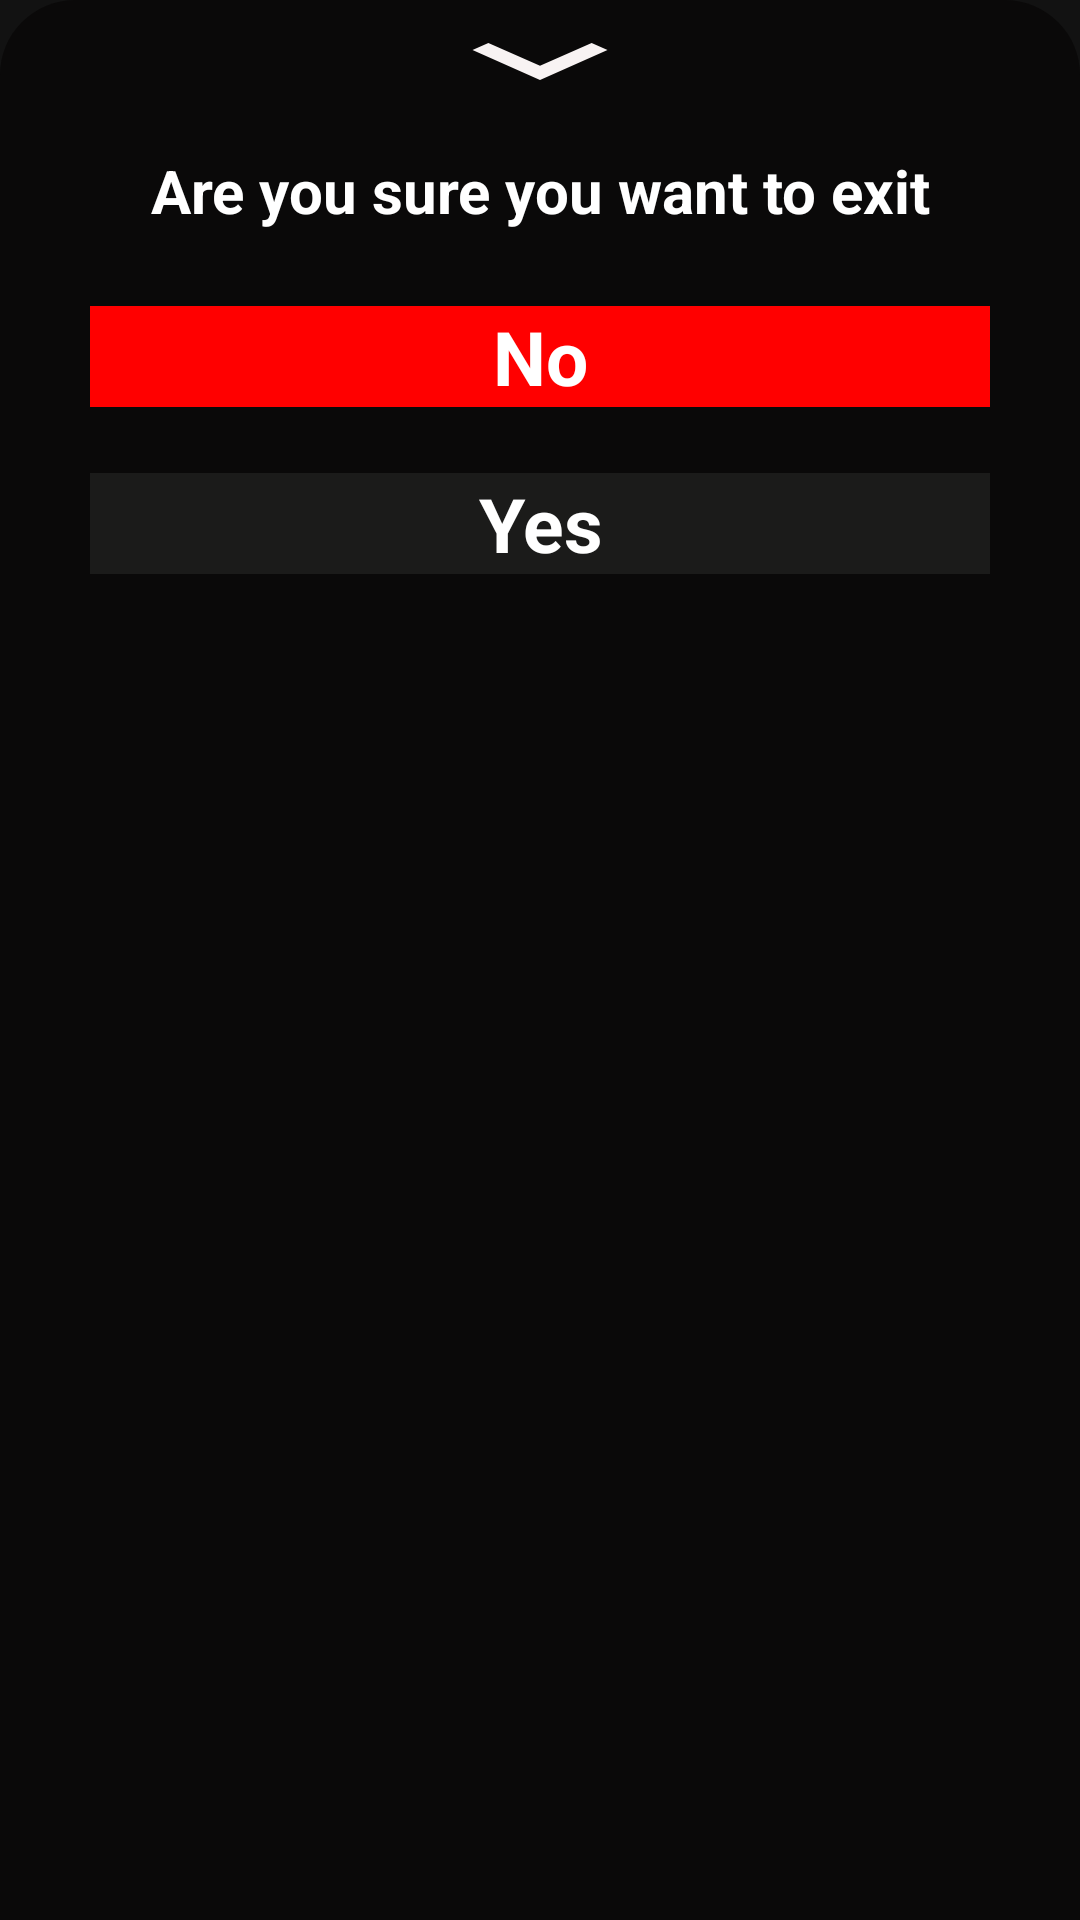

Icons on this 1080px×1920px Android screen, each with its box as (x1, y1, x2, y2):
backpressicon: (473, 43, 607, 80)
